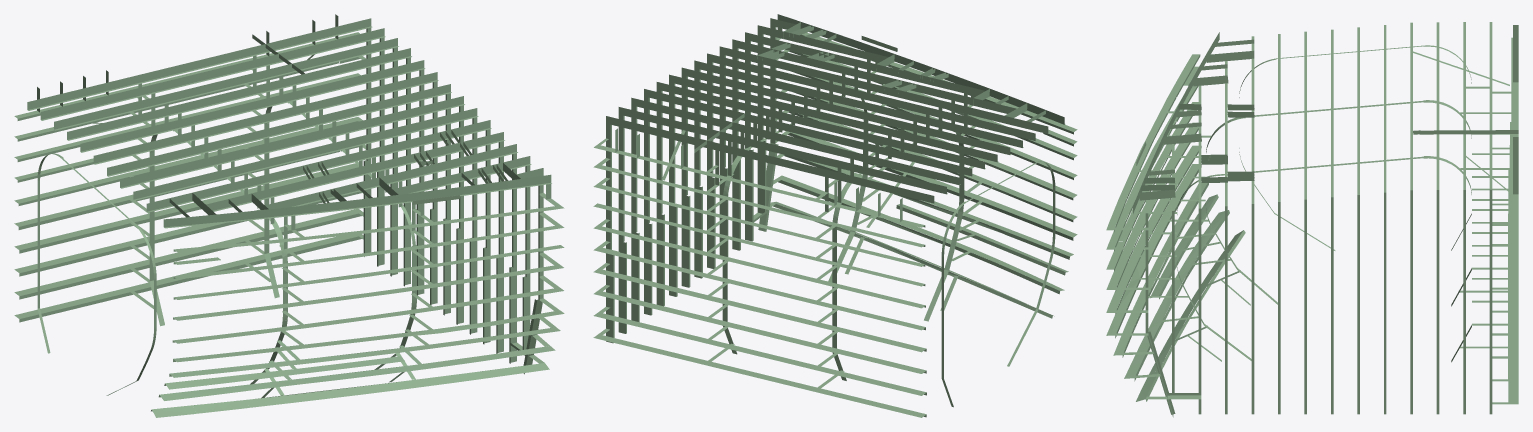
File: NO_2_DIESEL_OIL_TK_SB.glb
3 renders of one model, left to right at view 1: azimuth 30°, elevation 25°; view 2: azimuth 150°, elevation 25°; view 3: azimuth 270°, elevation 25°, orthographic. The views are drawn at different scales.
Parts seen in each view (by area): view 1: ST_OuterShellxEPRSxL53xWeb_002004-IA_360x125x10x15_NVA32_199, ST_UDxEPRSxDL30xWeb_001002-IA_300x90x13x17_NVA_1993, ST_UDxEPRSxDL17xWeb_001002-IA_300x90x13x17_NVA_1993, ST_UDxEPRSxDL18xWeb_001002-IA_300x90x13x17_NVA_1993, ST_UDxEPRSxDL21xWeb_001002-IA_300x90x13x17_NVA_1993, ST_UDxEPRSxDL22xWeb_001002-IA_300x90x13x17_NVA_1993, ST_UDxEPRSxDL20xWeb_001002-IA_300x90x13x17_NVA_1993, ST_UDxEPRSxDL19xWeb_001002-IA_300x90x13x17_NVA_1993, ST_UDxEPRSxDL14xWeb_001002-IA_300x90x13x17_NVA_1993, ST_UDxEPRSxDL16xWeb_001002-IA_300x90x13x17_NVA_1993, ST_UDxEPRSxDL15xWeb_001002-IA_300x90x13x17_NVA_1993, ST_UDxEPRSxDL23xWeb_001002-IA_300x90x13x17_NVA_1993 (+36 smaller); view 2: ST_UDxEPRSxDL20xWeb_001002-IA_300x90x13x17_NVA_1993, ST_UDxEPRSxDL18xWeb_001002-IA_300x90x13x17_NVA_1993, ST_UDxEPRSxDL21xWeb_001002-IA_300x90x13x17_NVA_1993, ST_UDxEPRSxDL23xWeb_001002-IA_300x90x13x17_NVA_1993, ST_UDxEPRSxDL19xWeb_001002-IA_300x90x13x17_NVA_1993, ST_UDxEPRSxDL22xWeb_001002-IA_300x90x13x17_NVA_1993, ST_UDxEPRSxDL15xWeb_001002-IA_300x90x13x17_NVA_1993, ST_UDxEPRSxDL16xWeb_001002-IA_300x90x13x17_NVA_1993, ST_UDxEPRSxDL14xWeb_001002-IA_300x90x13x17_NVA_1993, ST_UDxEPRSxDL17xWeb_001002-IA_300x90x13x17_NVA_1993, ST_UDxEPRSxDL24xWeb_152002-IA_300x90x13x17_NVA_1993, ST_UDxEPRSxDL25xWeb_151002-IA_300x90x13x17_NVA_1993 (+39 smaller); view 3: ST_OuterShellxEPRSxL56xWeb_002001-IA_312.5x125x10x12.5_NVA32, ST_OuterShellxEPRSxL60A2xWeb_001004-IA_265x90x10x15_NVA32_19, ST_OuterShellxEPRSxL55xWeb_001004-IA_316.5x125x10x16.5_NVA32, ST_OuterShellxEPRSxL57xWeb_001004-IA_316x90x11x16_NVA32_1993, ST_OuterShellxEPRSxL53xWeb_002004-IA_360x125x10x15_NVA32_199, ST_OuterShellxEPRSxL58xWeb_001004-IA_316x90x11x16_NVA32_1993, ST_OuterShellxEPRSxL60xWeb_002002-IA_265x90x10x15_NVA32_1993, ST_OuterShellxEPRSxL59xWeb_001001-IA_265x90x10x15_NVA32_1993, ST_OuterShellxEPRSxL54xWeb_007001-IA_360.5x125x10x15.5_NVA32, ST_LBHDxEPRSxL62xWeb_001002-IA_250x90x10x15_NVA_1993, ST_TransxFR45SxFLG_105001-IA_200x90x9x14_NVA_1993, ST_TransxFR45SxFLG_107001-IA_200x90x9x14_NVA_1993 (+4 smaller).
Boxes of the visible parts, left/top/right/bottom form: ST_OuterShellxEPRSxL53xWeb_002004-IA_360x125x10x15_NVA32_199: left=245, top=371, right=483, bottom=407; ST_UDxEPRSxDL30xWeb_001002-IA_300x90x13x17_NVA_1993: left=256, top=183, right=486, bottom=218; ST_UDxEPRSxDL17xWeb_001002-IA_300x90x13x17_NVA_1993: left=147, top=62, right=352, bottom=120; ST_UDxEPRSxDL18xWeb_001002-IA_300x90x13x17_NVA_1993: left=160, top=74, right=365, bottom=131; ST_UDxEPRSxDL21xWeb_001002-IA_300x90x13x17_NVA_1993: left=200, top=110, right=405, bottom=167; ST_UDxEPRSxDL22xWeb_001002-IA_300x90x13x17_NVA_1993: left=213, top=122, right=418, bottom=179; ST_UDxEPRSxDL20xWeb_001002-IA_300x90x13x17_NVA_1993: left=187, top=98, right=392, bottom=156; ST_UDxEPRSxDL19xWeb_001002-IA_300x90x13x17_NVA_1993: left=174, top=86, right=378, bottom=143; ST_UDxEPRSxDL14xWeb_001002-IA_300x90x13x17_NVA_1993: left=107, top=32, right=312, bottom=90; ST_UDxEPRSxDL16xWeb_001002-IA_300x90x13x17_NVA_1993: left=134, top=52, right=339, bottom=109; ST_UDxEPRSxDL15xWeb_001002-IA_300x90x13x17_NVA_1993: left=121, top=42, right=325, bottom=100; ST_UDxEPRSxDL23xWeb_001002-IA_300x90x13x17_NVA_1993: left=227, top=134, right=431, bottom=191; ST_UDxEPRSxDL20xWeb_001002-IA_300x90x13x17_NVA_1993: left=737, top=81, right=933, bottom=136; ST_UDxEPRSxDL18xWeb_001002-IA_300x90x13x17_NVA_1993: left=712, top=95, right=908, bottom=150; ST_UDxEPRSxDL21xWeb_001002-IA_300x90x13x17_NVA_1993: left=750, top=74, right=946, bottom=129; ST_UDxEPRSxDL23xWeb_001002-IA_300x90x13x17_NVA_1993: left=775, top=60, right=971, bottom=115; ST_UDxEPRSxDL19xWeb_001002-IA_300x90x13x17_NVA_1993: left=725, top=88, right=920, bottom=143; ST_UDxEPRSxDL22xWeb_001002-IA_300x90x13x17_NVA_1993: left=763, top=67, right=958, bottom=122; ST_UDxEPRSxDL15xWeb_001002-IA_300x90x13x17_NVA_1993: left=674, top=120, right=870, bottom=175; ST_UDxEPRSxDL16xWeb_001002-IA_300x90x13x17_NVA_1993: left=687, top=111, right=882, bottom=166; ST_UDxEPRSxDL14xWeb_001002-IA_300x90x13x17_NVA_1993: left=662, top=129, right=857, bottom=184; ST_UDxEPRSxDL17xWeb_001002-IA_300x90x13x17_NVA_1993: left=700, top=102, right=895, bottom=157; ST_UDxEPRSxDL24xWeb_152002-IA_300x90x13x17_NVA_1993: left=788, top=53, right=984, bottom=108; ST_UDxEPRSxDL25xWeb_151002-IA_300x90x13x17_NVA_1993: left=801, top=46, right=985, bottom=96; ST_OuterShellxEPRSxL56xWeb_002001-IA_312.5x125x10x12.5_NVA32: left=1118, top=204, right=1177, bottom=307; ST_OuterShellxEPRSxL60A2xWeb_001004-IA_265x90x10x15_NVA32_19: left=1118, top=95, right=1175, bottom=200; ST_OuterShellxEPRSxL55xWeb_001004-IA_316.5x125x10x16.5_NVA32: left=1125, top=222, right=1184, bottom=325; ST_OuterShellxEPRSxL57xWeb_001004-IA_316x90x11x16_NVA32_1993: left=1119, top=184, right=1177, bottom=284; ST_OuterShellxEPRSxL53xWeb_002004-IA_360x125x10x15_NVA32_199: left=1149, top=270, right=1216, bottom=373; ST_OuterShellxEPRSxL58xWeb_001004-IA_316x90x11x16_NVA32_1993: left=1118, top=161, right=1177, bottom=261; ST_OuterShellxEPRSxL60xWeb_002002-IA_265x90x10x15_NVA32_1993: left=1119, top=120, right=1175, bottom=220; ST_OuterShellxEPRSxL59xWeb_001001-IA_265x90x10x15_NVA32_1993: left=1118, top=144, right=1171, bottom=241; ST_OuterShellxEPRSxL54xWeb_007001-IA_360.5x125x10x15.5_NVA32: left=1151, top=265, right=1192, bottom=323; ST_LBHDxEPRSxL62xWeb_001002-IA_250x90x10x15_NVA_1993: left=1511, top=76, right=1518, bottom=176; ST_TransxFR45SxFLG_105001-IA_200x90x9x14_NVA_1993: left=1489, top=189, right=1492, bottom=298; ST_TransxFR45SxFLG_107001-IA_200x90x9x14_NVA_1993: left=1436, top=190, right=1439, bottom=298.
Bounding box in the file's own units: 13.51 × 8.89 × 14.03.
